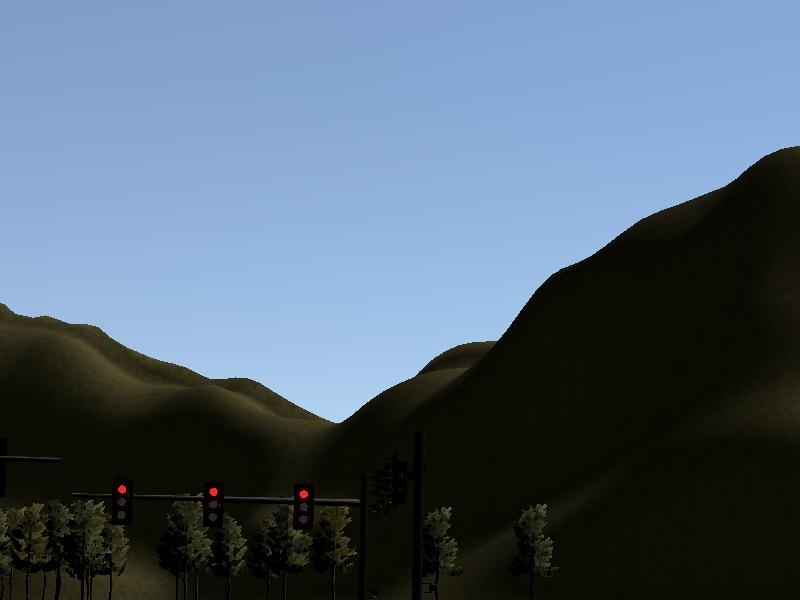RED: (110, 477, 131, 524), (292, 484, 313, 531), (203, 479, 224, 526)
